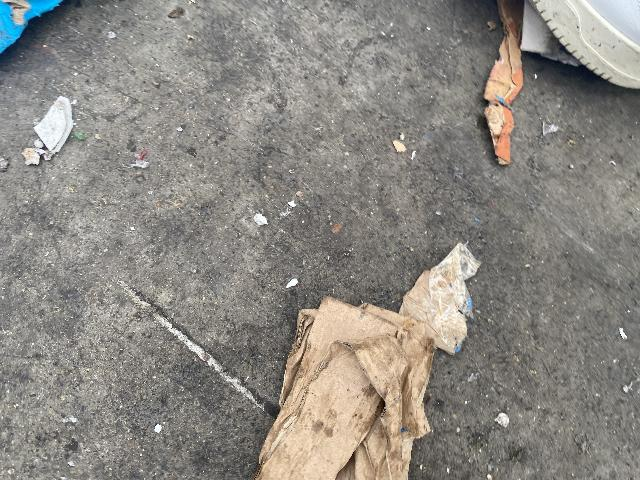Kagit: (249, 242, 482, 480)
